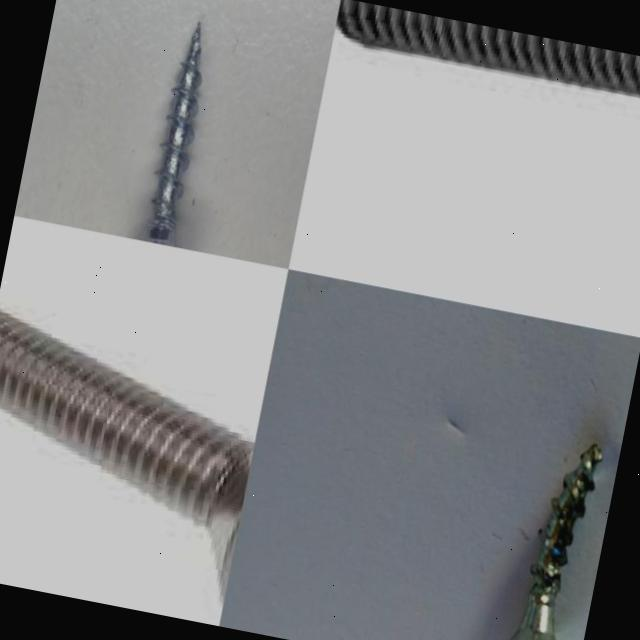Screw: (0, 308, 255, 611), (335, 0, 640, 97), (509, 443, 602, 640), (139, 21, 202, 248)
